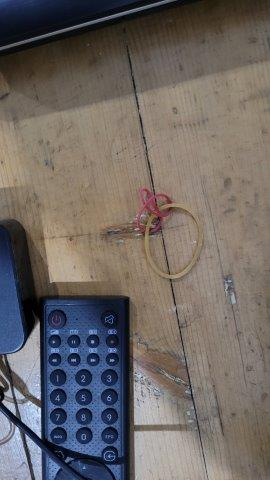karet: (132, 189, 205, 282)
